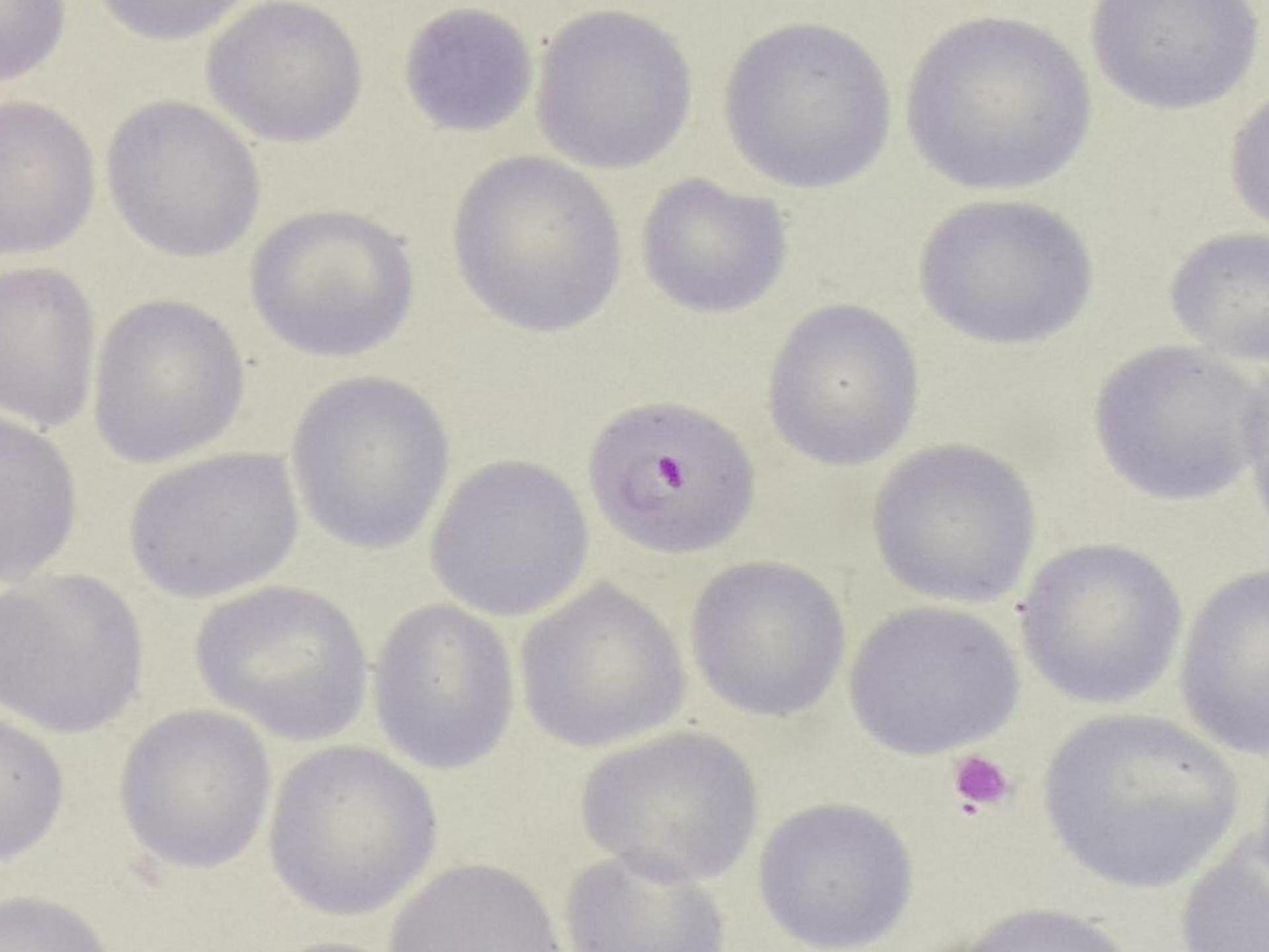Infected: (590, 403, 754, 554)
Uninfected: (1049, 712, 1232, 882), (909, 20, 1090, 188), (461, 159, 622, 329), (296, 375, 450, 550), (587, 732, 751, 894), (522, 583, 688, 742), (877, 441, 1036, 603), (851, 605, 1020, 754), (197, 590, 366, 739), (732, 27, 888, 188), (428, 463, 590, 616), (1026, 545, 1184, 701), (276, 752, 430, 911), (1096, 344, 1251, 501), (137, 456, 302, 600), (106, 101, 261, 253), (773, 304, 915, 468), (540, 15, 692, 168), (253, 208, 412, 353), (922, 203, 1086, 343), (0, 568, 140, 731), (126, 707, 269, 866), (99, 304, 241, 464), (697, 564, 847, 713), (377, 606, 514, 766), (208, 4, 363, 142), (763, 805, 909, 939), (643, 173, 784, 311), (1096, 0, 1256, 109), (570, 851, 725, 952), (0, 266, 92, 425), (408, 14, 532, 129), (392, 867, 557, 952), (0, 108, 95, 254)
